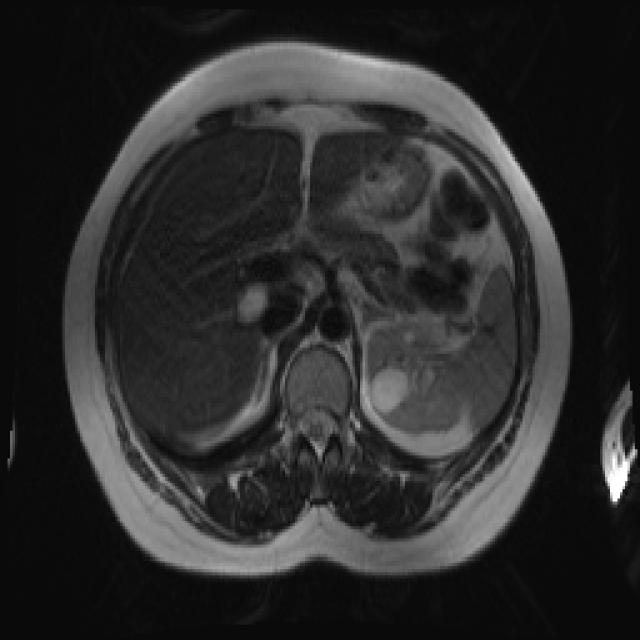sol: (364, 323, 462, 436)
